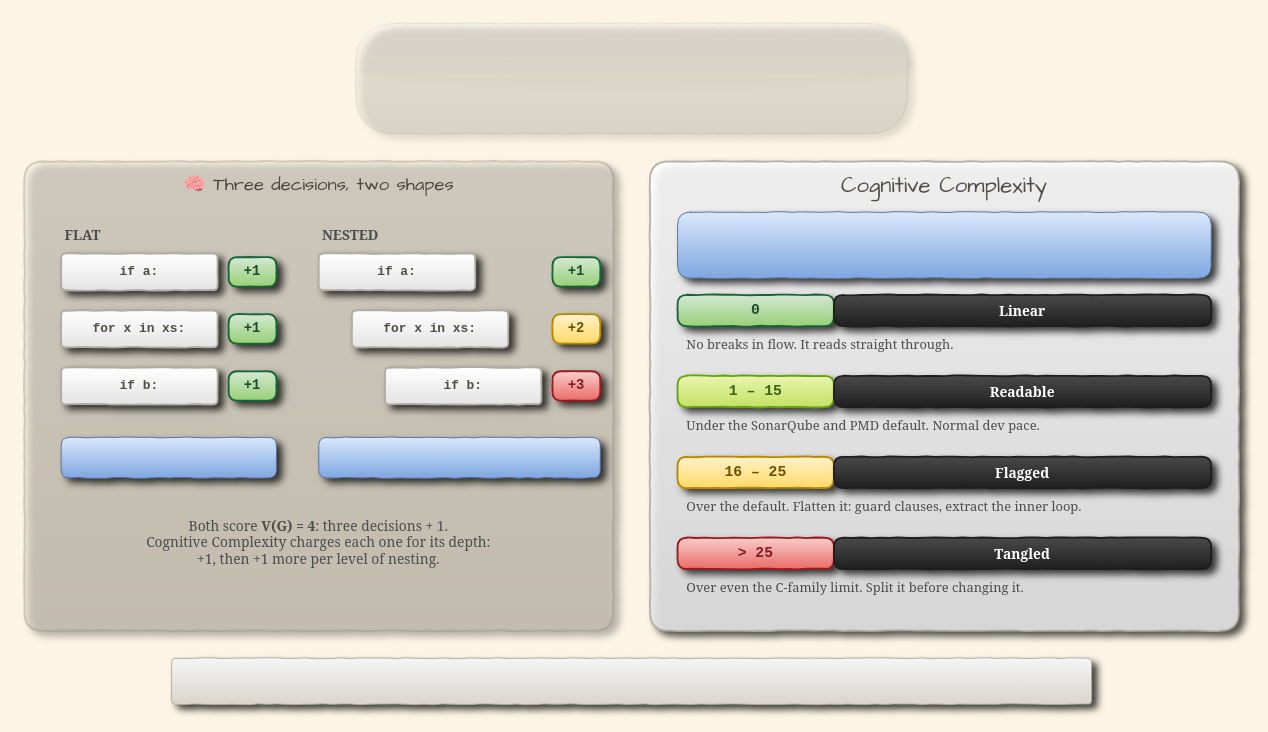
This 1268x732 diagram has some shape labels left out. Each missing label, with the centre of its shape:
"+1 for each break in the flow +1 more for each level of nesting" belongs at [946,247].
"Cognitive = 3" belongs at [171,459].
"Cognitive = 6" belongs at [461,459].
"Cognitive complexity : the same decisions cost more the deeper they sit." belongs at [633,683].
"Cognitive Complexity How hard is it to read? by Steven Miers" belongs at [633,80].
